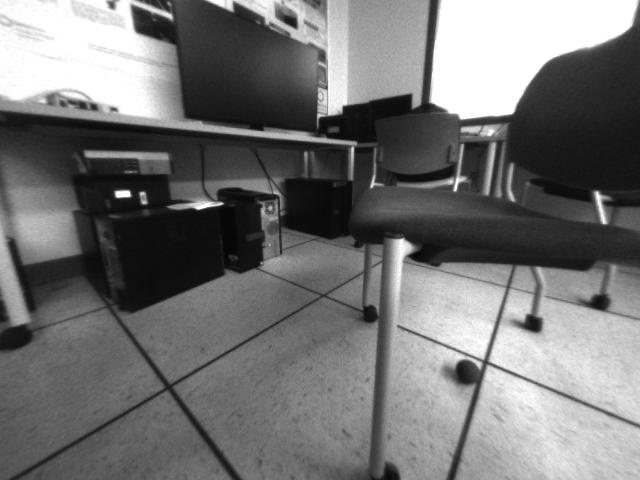dogtoy: (452, 354, 483, 392)
